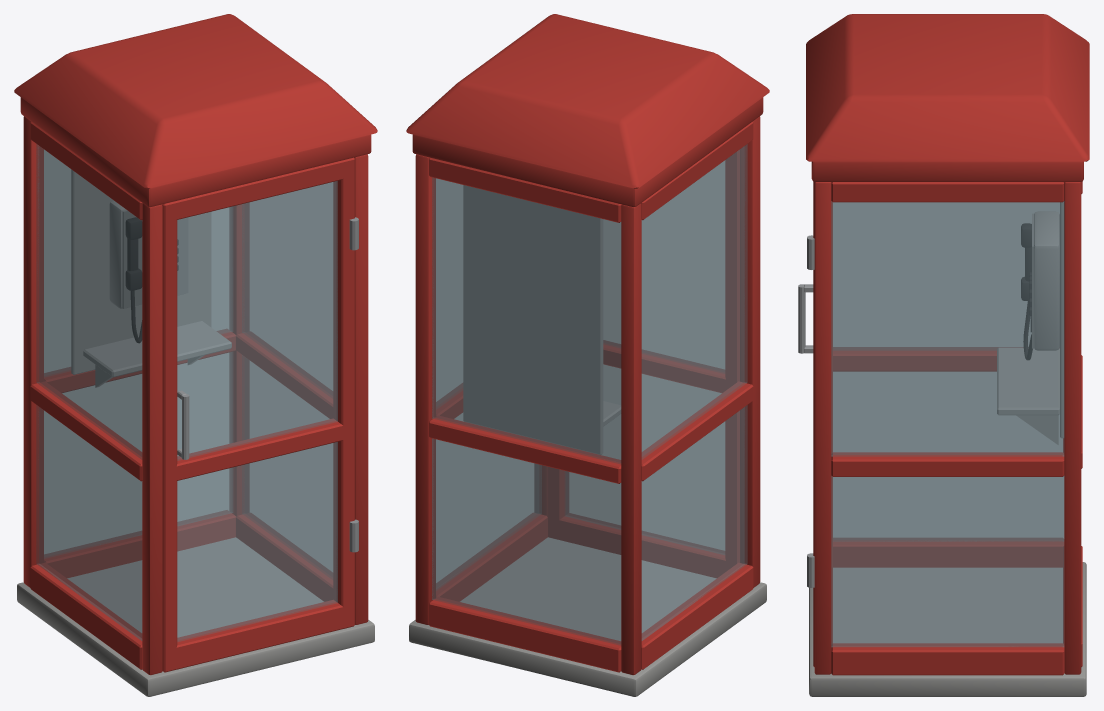
Rendered from PhoneBooth.fbx.
3 renders of one model, left to right at view 1: azimuth 30°, elevation 25°; view 2: azimuth 150°, elevation 25°; view 3: azimuth 270°, elevation 25°, orthographic. The views are drawn at different scales.
Visible parts, largest first — view 1: PhoneBooth_Mesh; view 2: PhoneBooth_Mesh; view 3: PhoneBooth_Mesh.
Boxes of the visible parts, x1,y1,x2,y2 form: PhoneBooth_Mesh: (14,14,377,696); PhoneBooth_Mesh: (406,14,769,696); PhoneBooth_Mesh: (798,14,1089,696).
Bounding box in the file's own units: 1.01 × 2.3 × 1.04.
